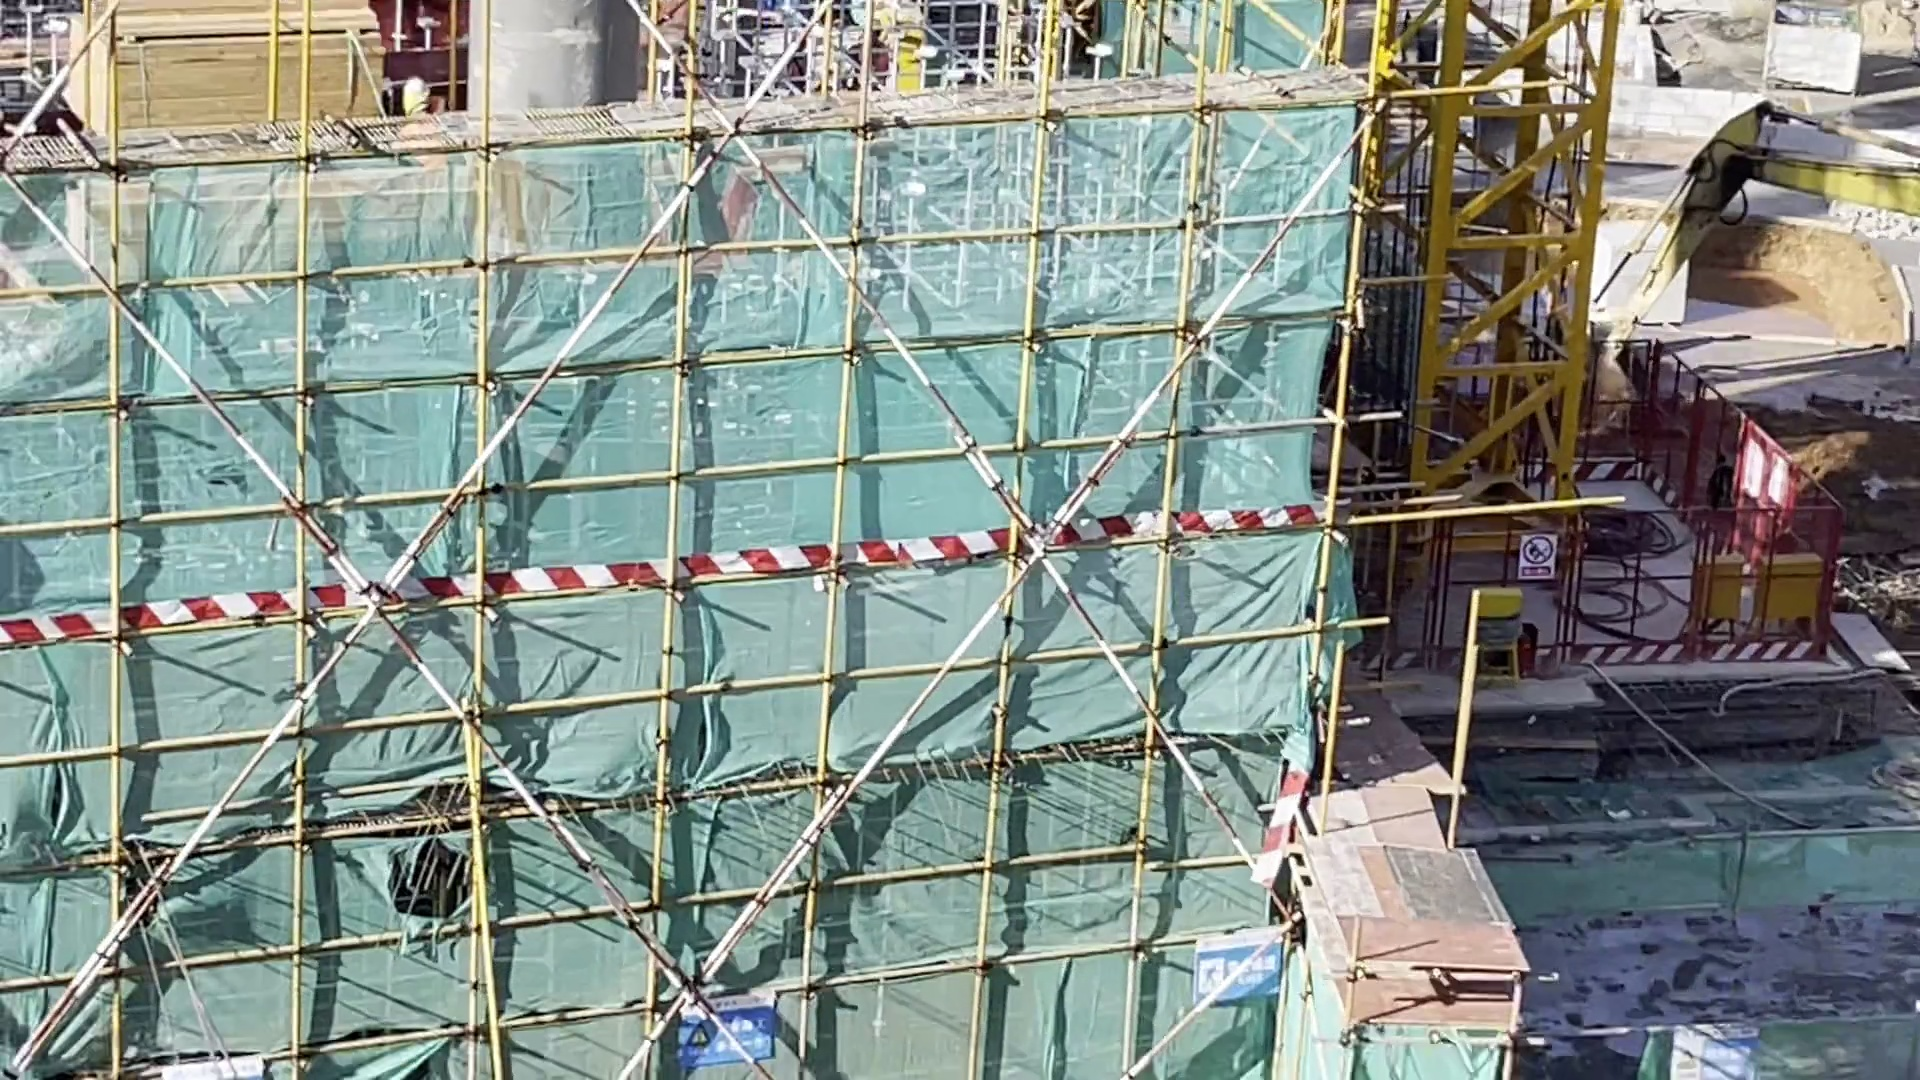brick: (1587, 225, 1691, 335)
ebox: (1762, 551, 1816, 646), (1693, 555, 1750, 631)
helmet: (398, 78, 434, 98), (405, 99, 429, 116)
person: (384, 99, 450, 177)
slogan: (678, 1003, 782, 1060), (1204, 941, 1282, 1002), (1523, 539, 1557, 581)
vest: (405, 120, 454, 166)
wood: (71, 164, 569, 278), (77, 8, 385, 124)
